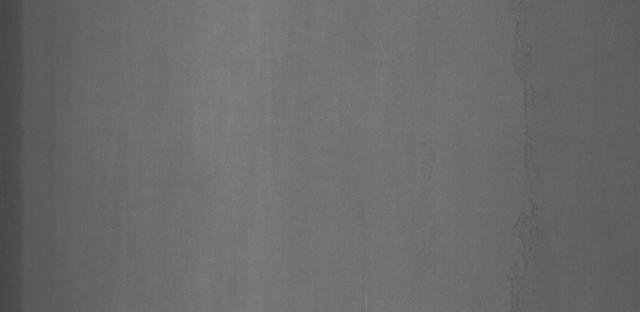silk_spot: (503, 16, 562, 292)
